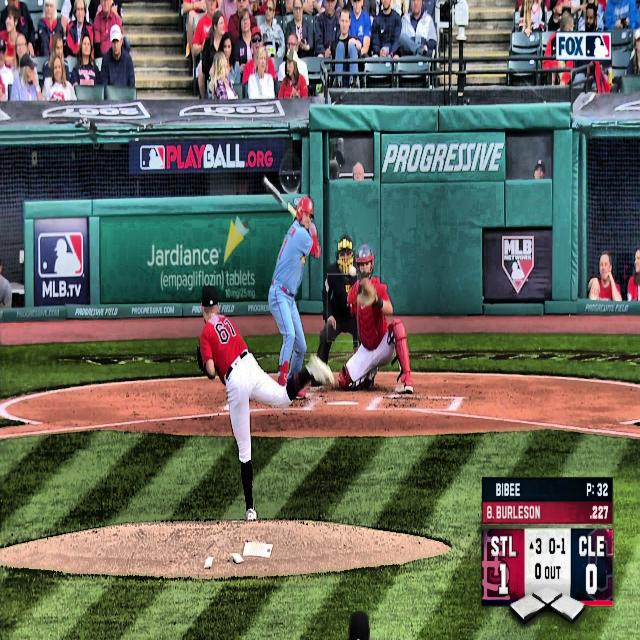baseball: (348, 265, 357, 277)
